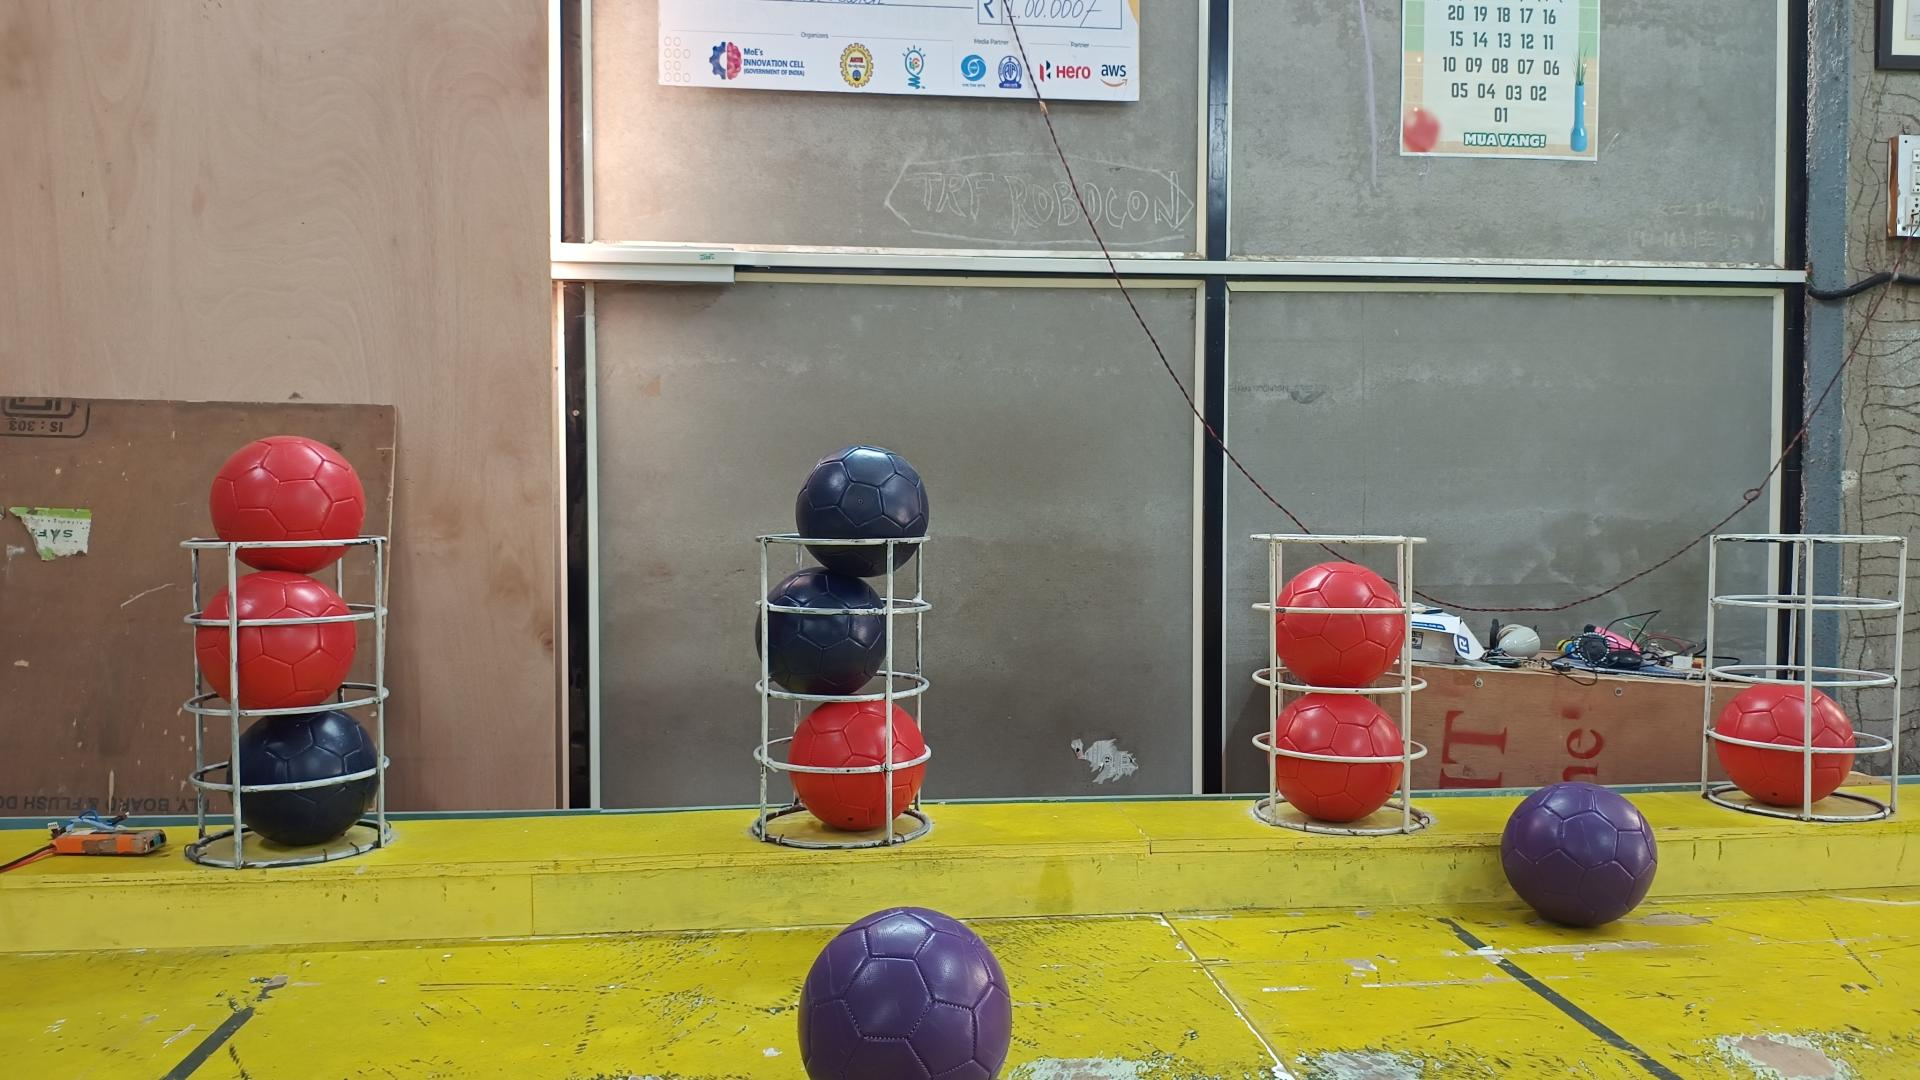dhoka: (228, 708, 386, 848), (795, 446, 930, 578), (757, 566, 885, 698)
laale: (195, 570, 356, 712), (210, 435, 364, 574), (787, 702, 926, 832), (1714, 683, 1857, 806), (1275, 694, 1403, 822), (1275, 563, 1406, 686)
